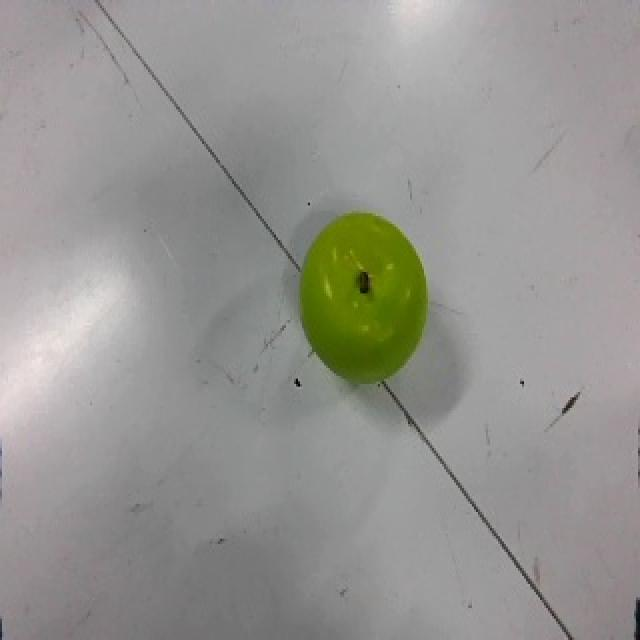apple: (299, 210, 430, 382)
